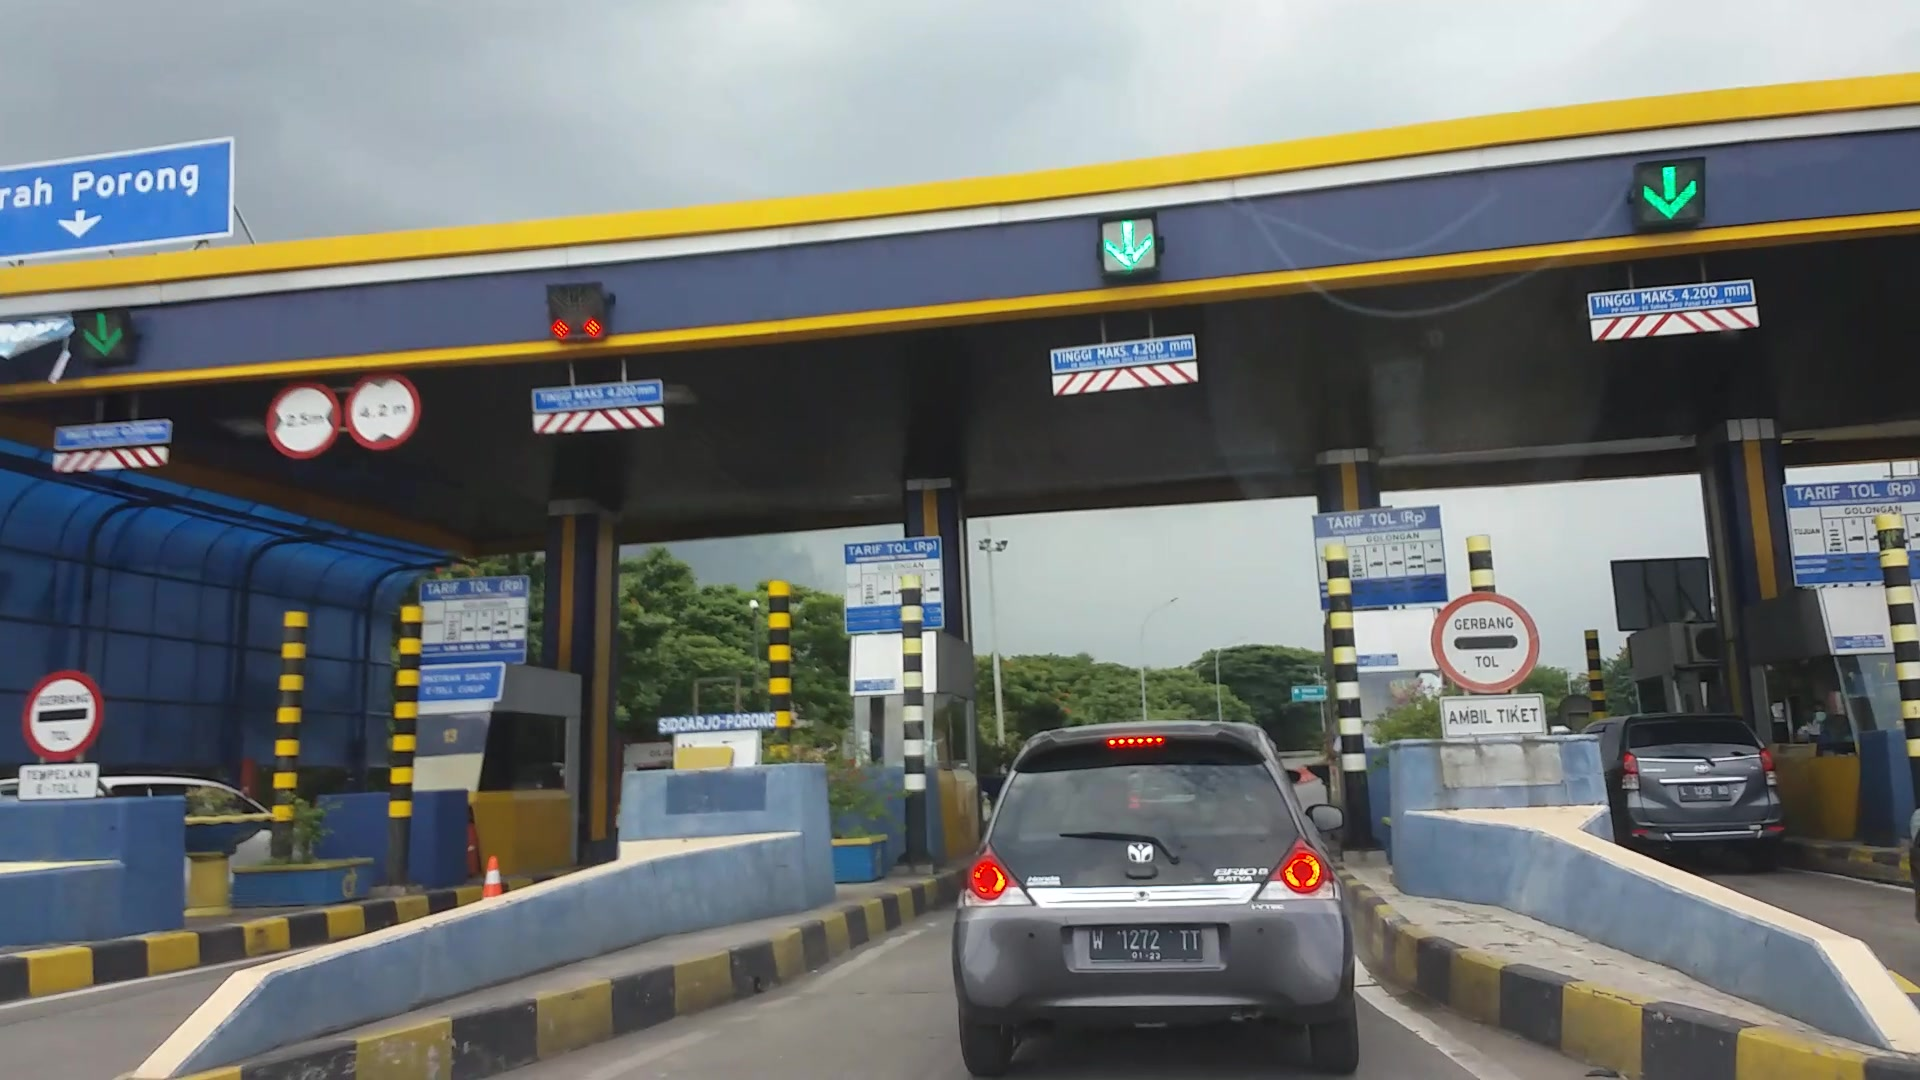plate_positive: (1089, 924, 1203, 963)
